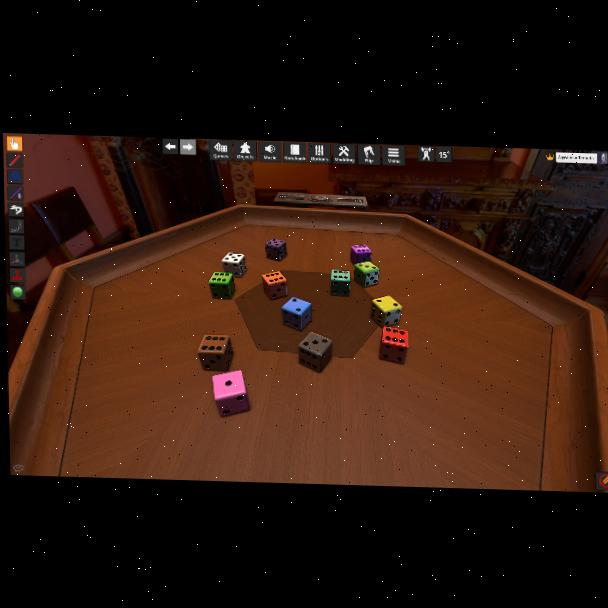d6: (212, 369, 250, 418), (301, 332, 335, 372), (196, 335, 231, 372), (372, 295, 404, 329), (281, 297, 312, 332), (380, 327, 409, 364), (208, 271, 236, 300), (262, 271, 288, 301), (353, 261, 379, 289), (221, 252, 246, 279), (265, 238, 288, 262), (330, 271, 350, 297), (350, 245, 371, 266)
